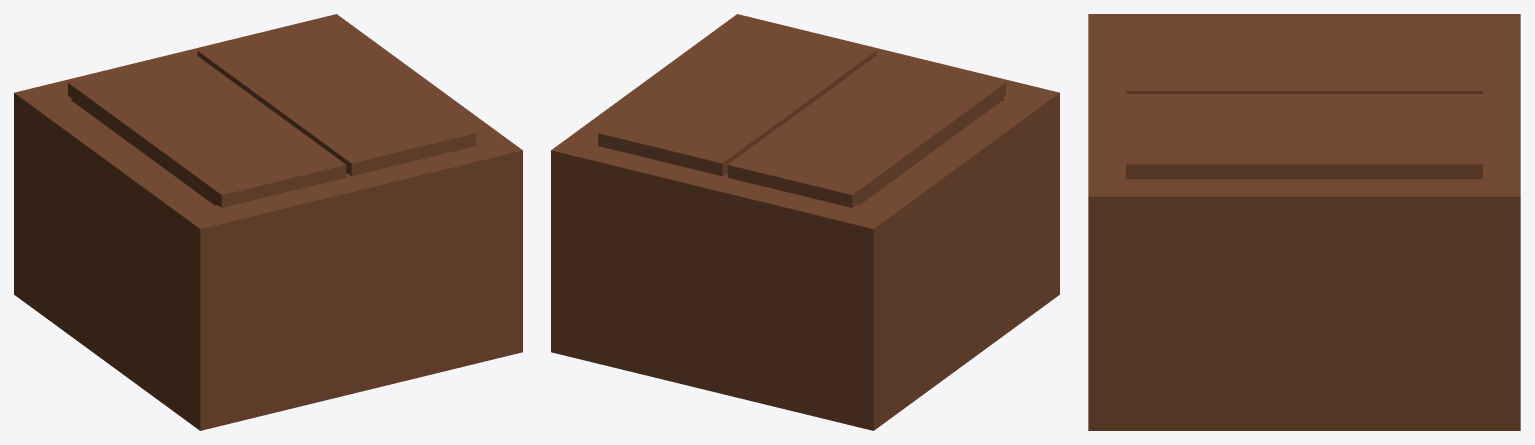
The model's file is terrain_crate.2.glb.
3 views of the same model, side by side, from view 1: azimuth 30°, elevation 25°; view 2: azimuth 150°, elevation 25°; view 3: azimuth 270°, elevation 25° (orthographic). The views are drawn at different scales.
Visible parts, largest first — view 1: terrain_crate.2; view 2: terrain_crate.2; view 3: terrain_crate.2.
Boxes of the visible parts, box(x1,y1,x2,y2) form: terrain_crate.2: box(14, 14, 522, 430); terrain_crate.2: box(551, 14, 1059, 430); terrain_crate.2: box(1088, 14, 1520, 430).
Bounding box in the file's own units: 0.92 × 0.585 × 0.92.
